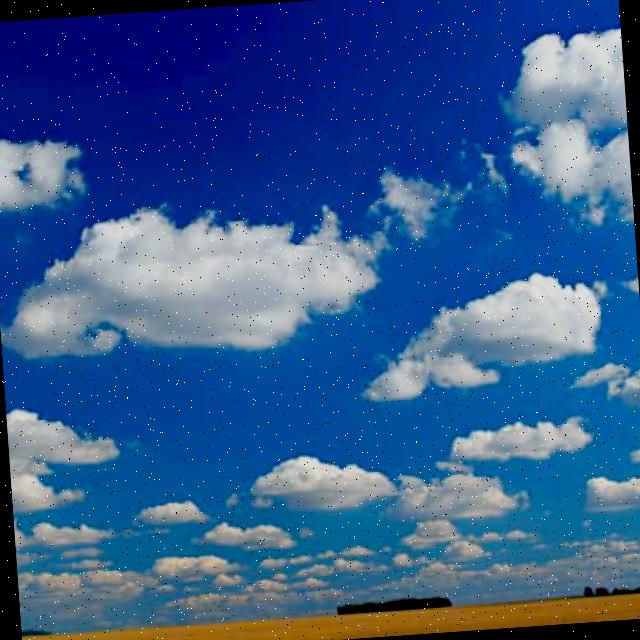Cu: (1, 14, 640, 609)
